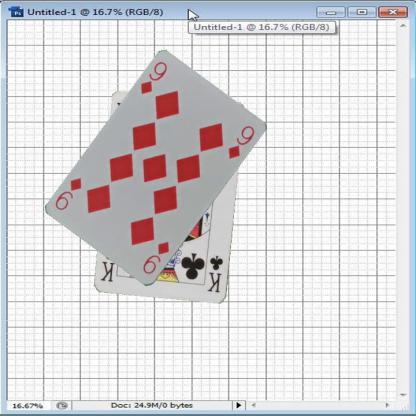9d: (140, 239, 172, 276), (138, 59, 168, 96)
Kc: (204, 253, 224, 294)
